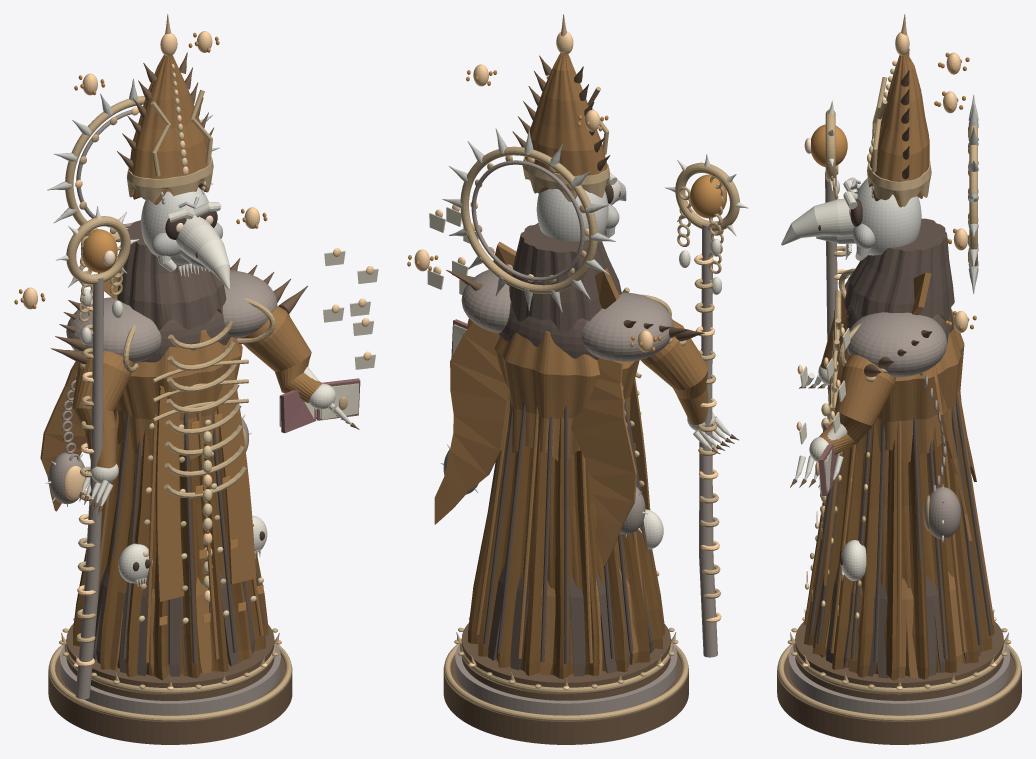
Rendered from fou_archiveque_orange.fbx.
3 views of the same model, side by side, from view 1: azimuth 30°, elevation 25°; view 2: azimuth 150°, elevation 25°; view 3: azimuth 270°, elevation 25° (orthographic).
Parts seen in each view (by area): view 1: 10_robe_main_velvet_sculpt, 11_robe_mantle_sculpt, 01_pedestal_low, 26_hood_neck_ring, 55_mitre_vault_sculpt, 70_staff_shaft, 12_tabard_side_-1, 12_tabard_side_1, 03_pedestal_plinth, 02_pedestal_trim, 30_sleeve_1, 30_sleeve_-1 (+27 smaller); view 2: 10_robe_main_velvet_sculpt, 11_robe_mantle_sculpt, 25_side_mantle_1, 25_side_mantle_-1, 01_pedestal_low, 26_hood_neck_ring, 55_mitre_vault_sculpt, 21_shoulder_pauldron_-1, 03_pedestal_plinth, 70_staff_shaft, 02_pedestal_trim, 65_cursed_halo_back (+27 smaller); view 3: 10_robe_main_velvet_sculpt, 26_hood_neck_ring, 01_pedestal_low, 11_robe_mantle_sculpt, 55_mitre_vault_sculpt, 21_shoulder_pauldron_1, 03_pedestal_plinth, 02_pedestal_trim, 30_sleeve_1, 40_skull_cranium, 05_pedestal_inlay_low, 47_hooked_plague_beak (+33 smaller).
Boxes of the visible parts, bbox=[...] form: 10_robe_main_velvet_sculpt: bbox=[73, 423, 268, 680]; 11_robe_mantle_sculpt: bbox=[114, 330, 242, 461]; 01_pedestal_low: bbox=[48, 656, 292, 744]; 26_hood_neck_ring: bbox=[117, 220, 226, 330]; 55_mitre_vault_sculpt: bbox=[129, 55, 211, 204]; 70_staff_shaft: bbox=[75, 277, 103, 699]; 12_tabard_side_-1: bbox=[155, 386, 184, 601]; 12_tabard_side_1: bbox=[217, 371, 256, 584]; 03_pedestal_plinth: bbox=[66, 623, 274, 700]; 02_pedestal_trim: bbox=[60, 644, 280, 715]; 30_sleeve_1: bbox=[239, 306, 322, 403]; 30_sleeve_-1: bbox=[72, 350, 134, 468]; 10_robe_main_velvet_sculpt: bbox=[468, 417, 664, 679]; 11_robe_mantle_sculpt: bbox=[494, 331, 639, 461]; 25_side_mantle_1: bbox=[434, 322, 509, 524]; 25_side_mantle_-1: bbox=[571, 358, 636, 565]; 01_pedestal_low: bbox=[443, 656, 688, 744]; 26_hood_neck_ring: bbox=[509, 223, 621, 332]; 55_mitre_vault_sculpt: bbox=[525, 53, 607, 198]; 21_shoulder_pauldron_-1: bbox=[581, 292, 673, 361]; 03_pedestal_plinth: bbox=[461, 623, 670, 700]; 70_staff_shaft: bbox=[699, 224, 717, 657]; 02_pedestal_trim: bbox=[455, 644, 677, 715]; 65_cursed_halo_back: bbox=[460, 146, 597, 293]; 10_robe_main_velvet_sculpt: bbox=[804, 418, 994, 680]; 26_hood_neck_ring: bbox=[844, 218, 954, 321]; 01_pedestal_low: bbox=[777, 656, 1021, 744]; 11_robe_mantle_sculpt: bbox=[837, 308, 964, 462]; 55_mitre_vault_sculpt: bbox=[869, 53, 929, 207]; 21_shoulder_pauldron_1: bbox=[846, 312, 947, 377]; 03_pedestal_plinth: bbox=[795, 621, 1003, 700]; 02_pedestal_trim: bbox=[788, 644, 1010, 715]; 30_sleeve_1: bbox=[819, 354, 895, 454]; 40_skull_cranium: bbox=[856, 178, 921, 255]; 05_pedestal_inlay_low: bbox=[777, 644, 1021, 721]; 47_hooked_plague_beak: bbox=[781, 198, 854, 245].
Bounding box in the file's own units: 102 × 207 × 67.6.
